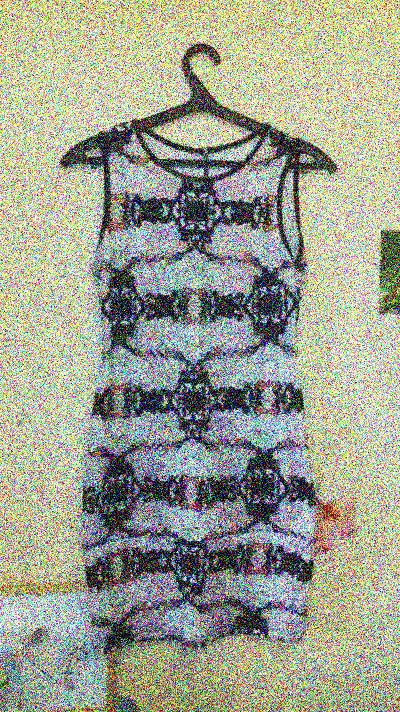Dress: (18, 83, 370, 671)
